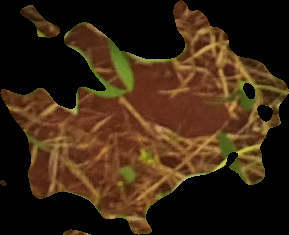soil: (3, 3, 284, 231)
